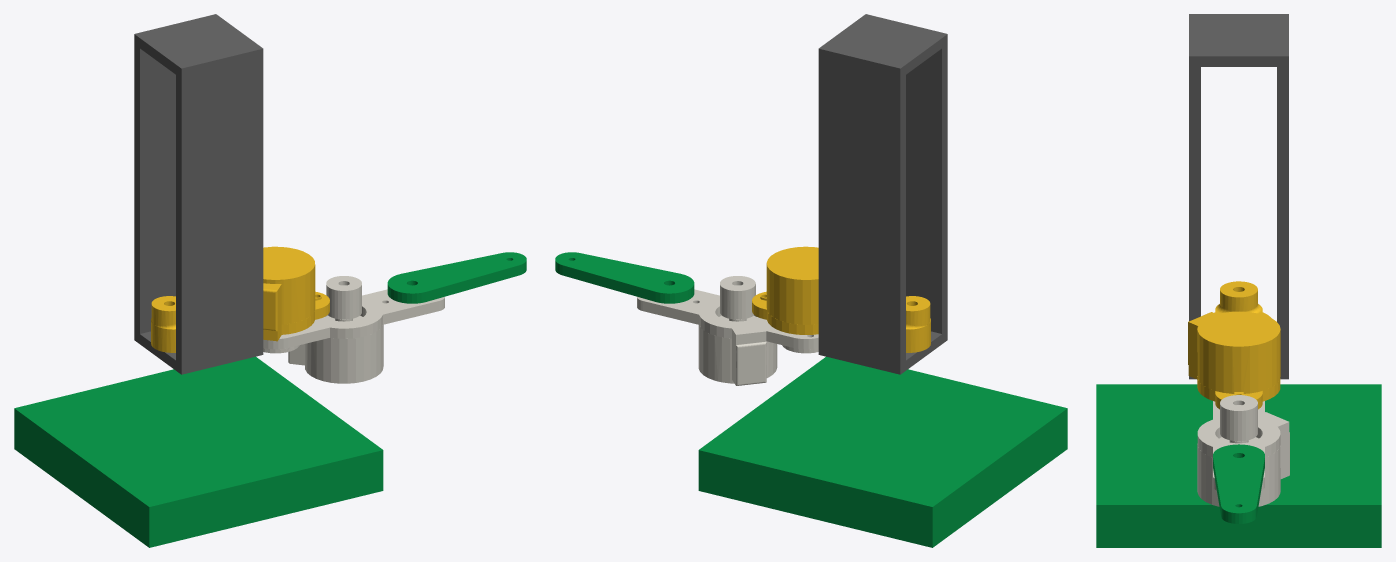
Rendered from myrobot.backup.dae.
3 views of the same model, side by side, from view 1: azimuth 30°, elevation 25°; view 2: azimuth 150°, elevation 25°; view 3: azimuth 270°, elevation 25° (orthographic). The views are drawn at different scales.
Visible parts, largest first — view 1: table, base_link, link_2, link_1, link_3; view 2: table, base_link, link_2, link_1, link_3; view 3: table, base_link, link_1, link_2, link_3.
Part boxes in pixels (x1=…): table: x1=14, y1=356, x2=383, y2=547; base_link: x1=134, y1=14, x2=263, y2=374; link_2: x1=263, y1=276, x2=444, y2=383; link_1: x1=151, y1=246, x2=329, y2=352; link_3: x1=387, y1=252, x2=526, y2=303; table: x1=698, y1=356, x2=1067, y2=547; base_link: x1=818, y1=14, x2=947, y2=374; link_2: x1=637, y1=276, x2=818, y2=385; link_1: x1=752, y1=246, x2=930, y2=352; link_3: x1=555, y1=252, x2=694, y2=303; table: x1=1096, y1=384, x2=1381, y2=547; base_link: x1=1189, y1=14, x2=1288, y2=379; link_1: x1=1188, y1=281, x2=1280, y2=409; link_2: x1=1197, y1=395, x2=1289, y2=506; link_3: x1=1213, y1=444, x2=1264, y2=523.
Bounding box in the file's own units: 0.227 × 0.12 × 0.21.
